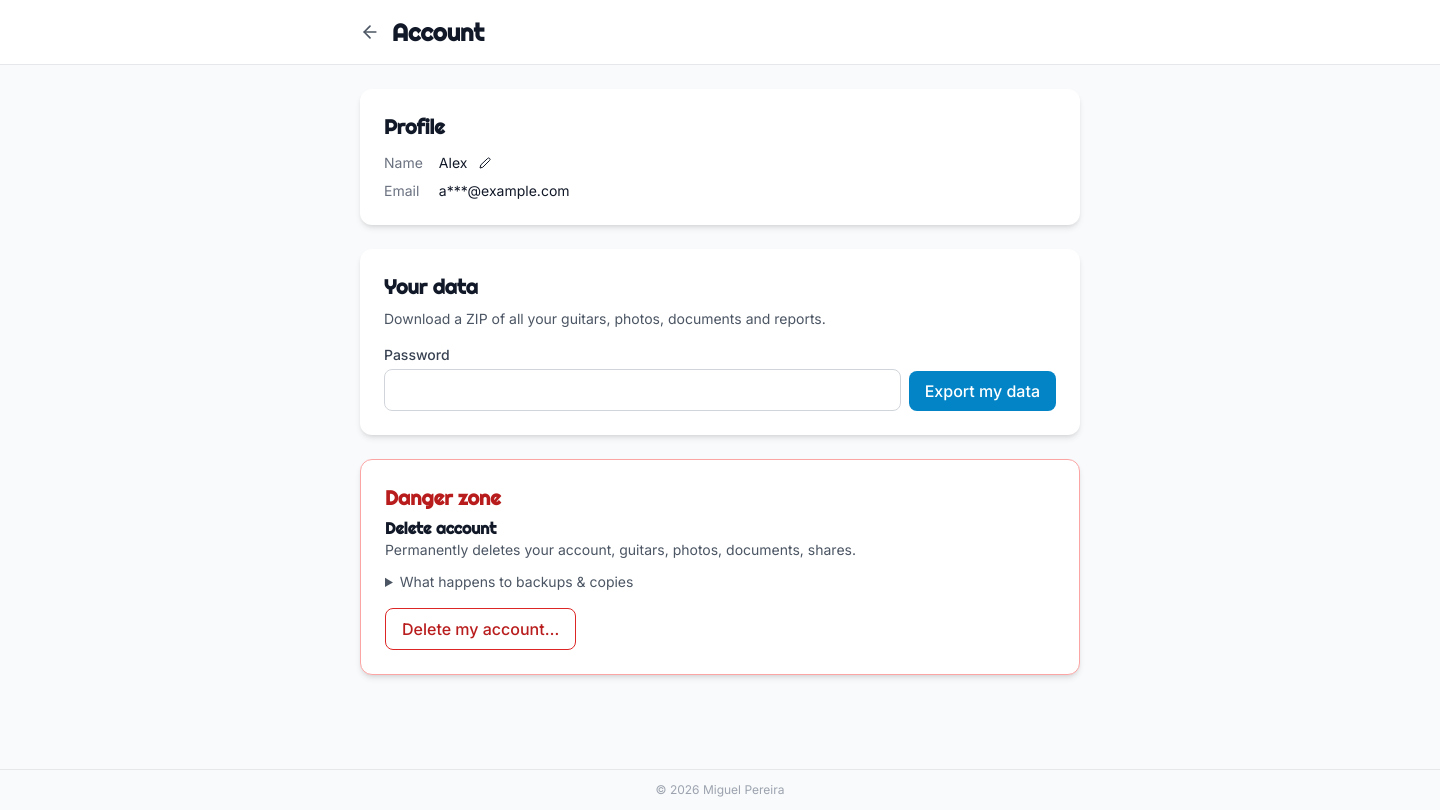
Test: Delete account dialog › TOO_MANY_ATTEMPTS shows its message and keeps the dialog open
The width and height of the screenshot is (1440, 810).
Click the button "Delete my account…" at (481, 629), box [385, 608, 576, 650]
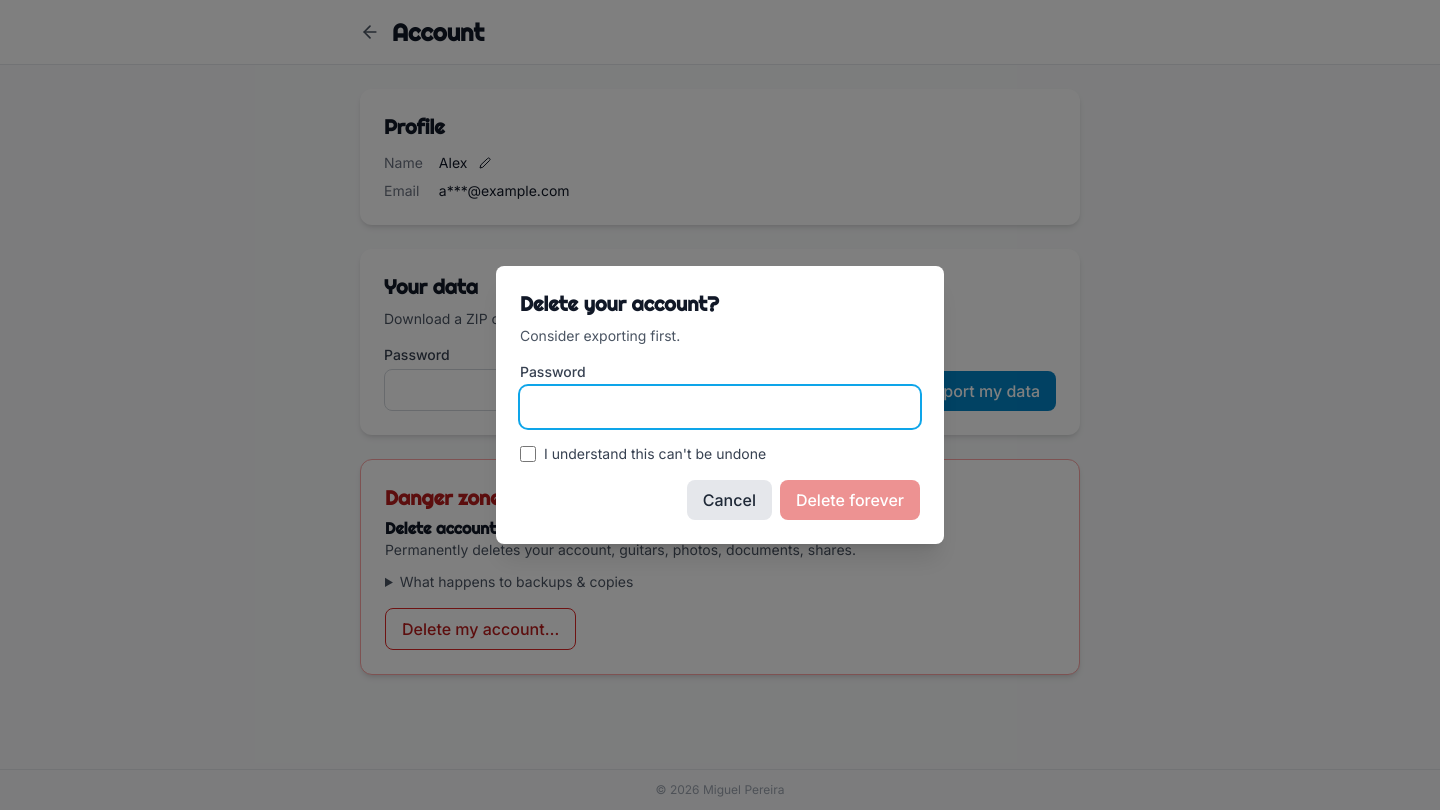
Type "pw" into the password field with id "delete-password" at (720, 407), box [520, 386, 920, 428]
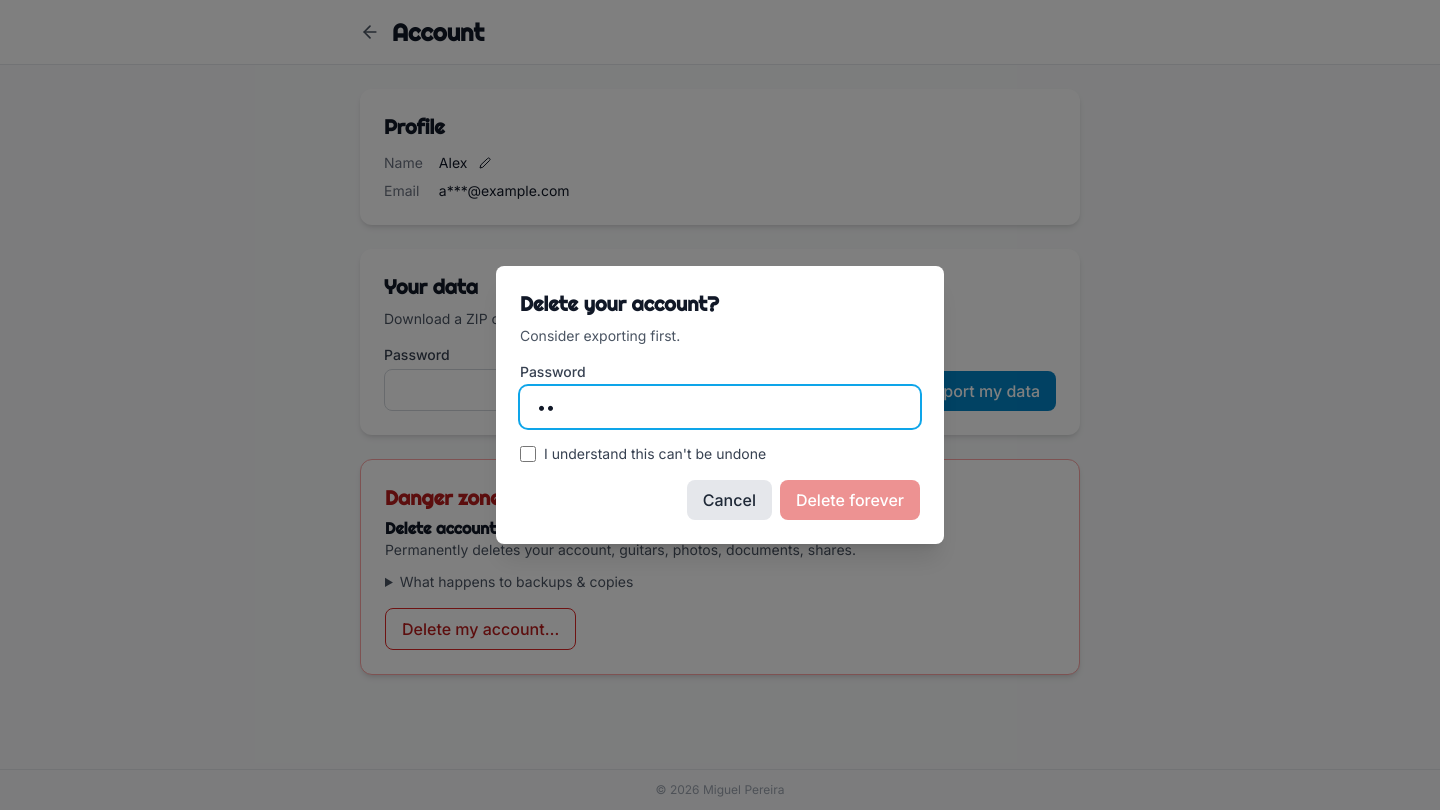
Click the checkbox labelled "I understand this can't be undone" at (528, 454), box [520, 446, 536, 462]
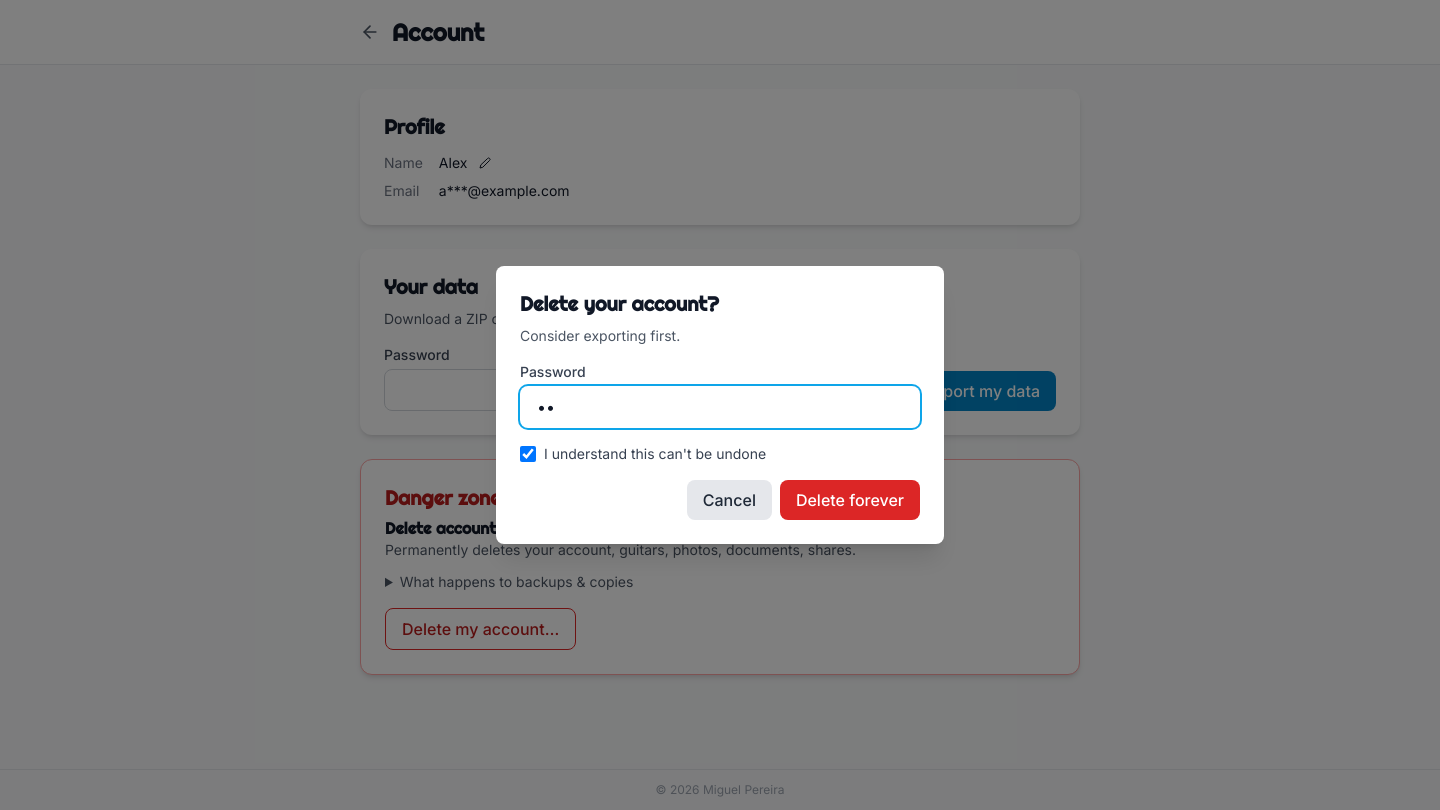
Click the button "Delete forever" at (850, 500), box [780, 480, 920, 520]
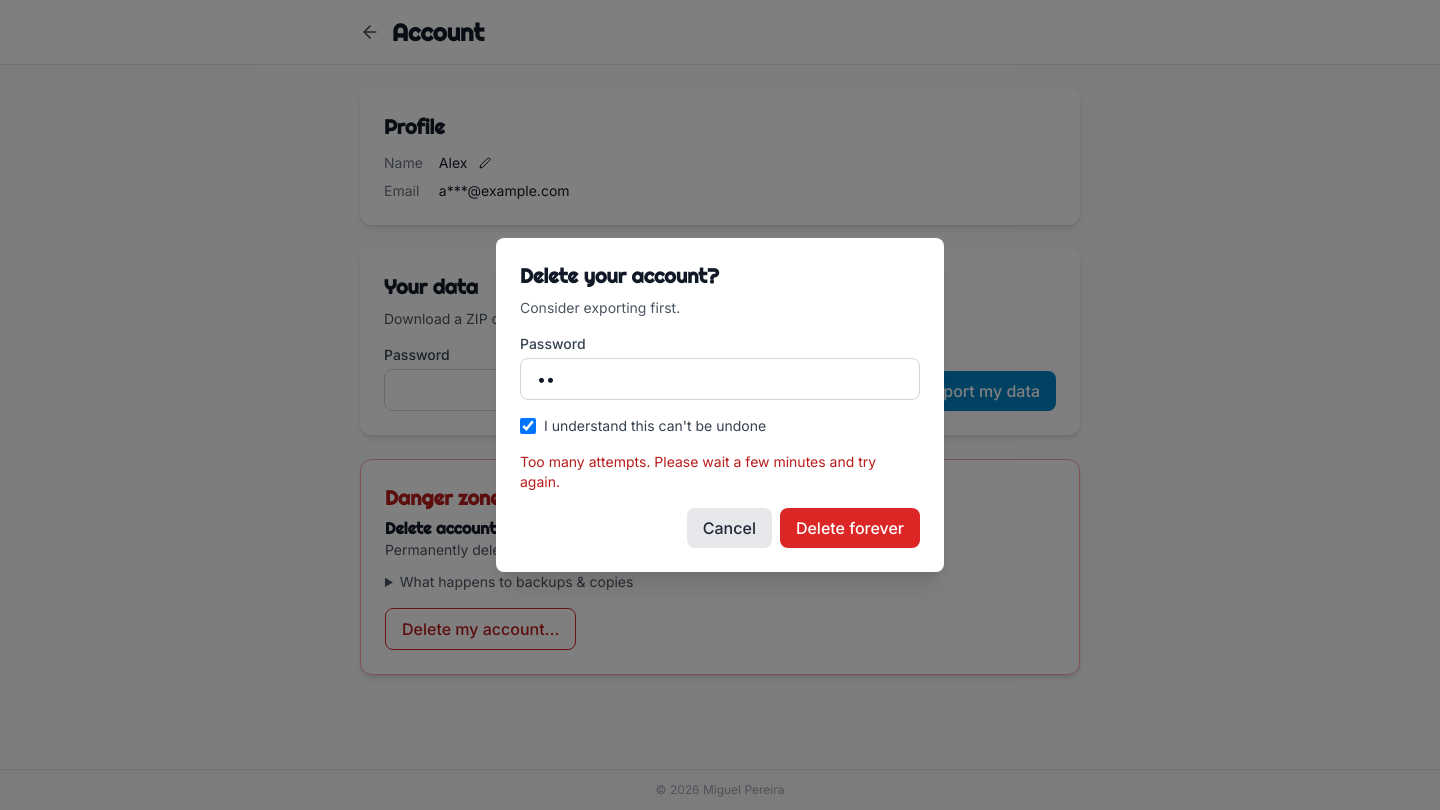
Now the message reads "Too many attempts. Please wait a few minutes and try again.", box [520, 453, 876, 490]
